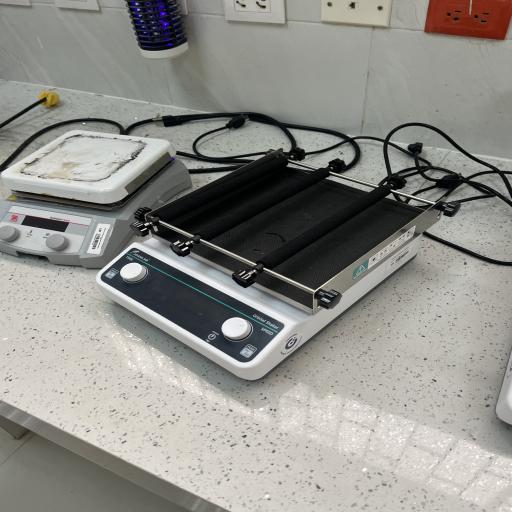Agitador_Orbital_DLAB: (78, 142, 466, 391)
